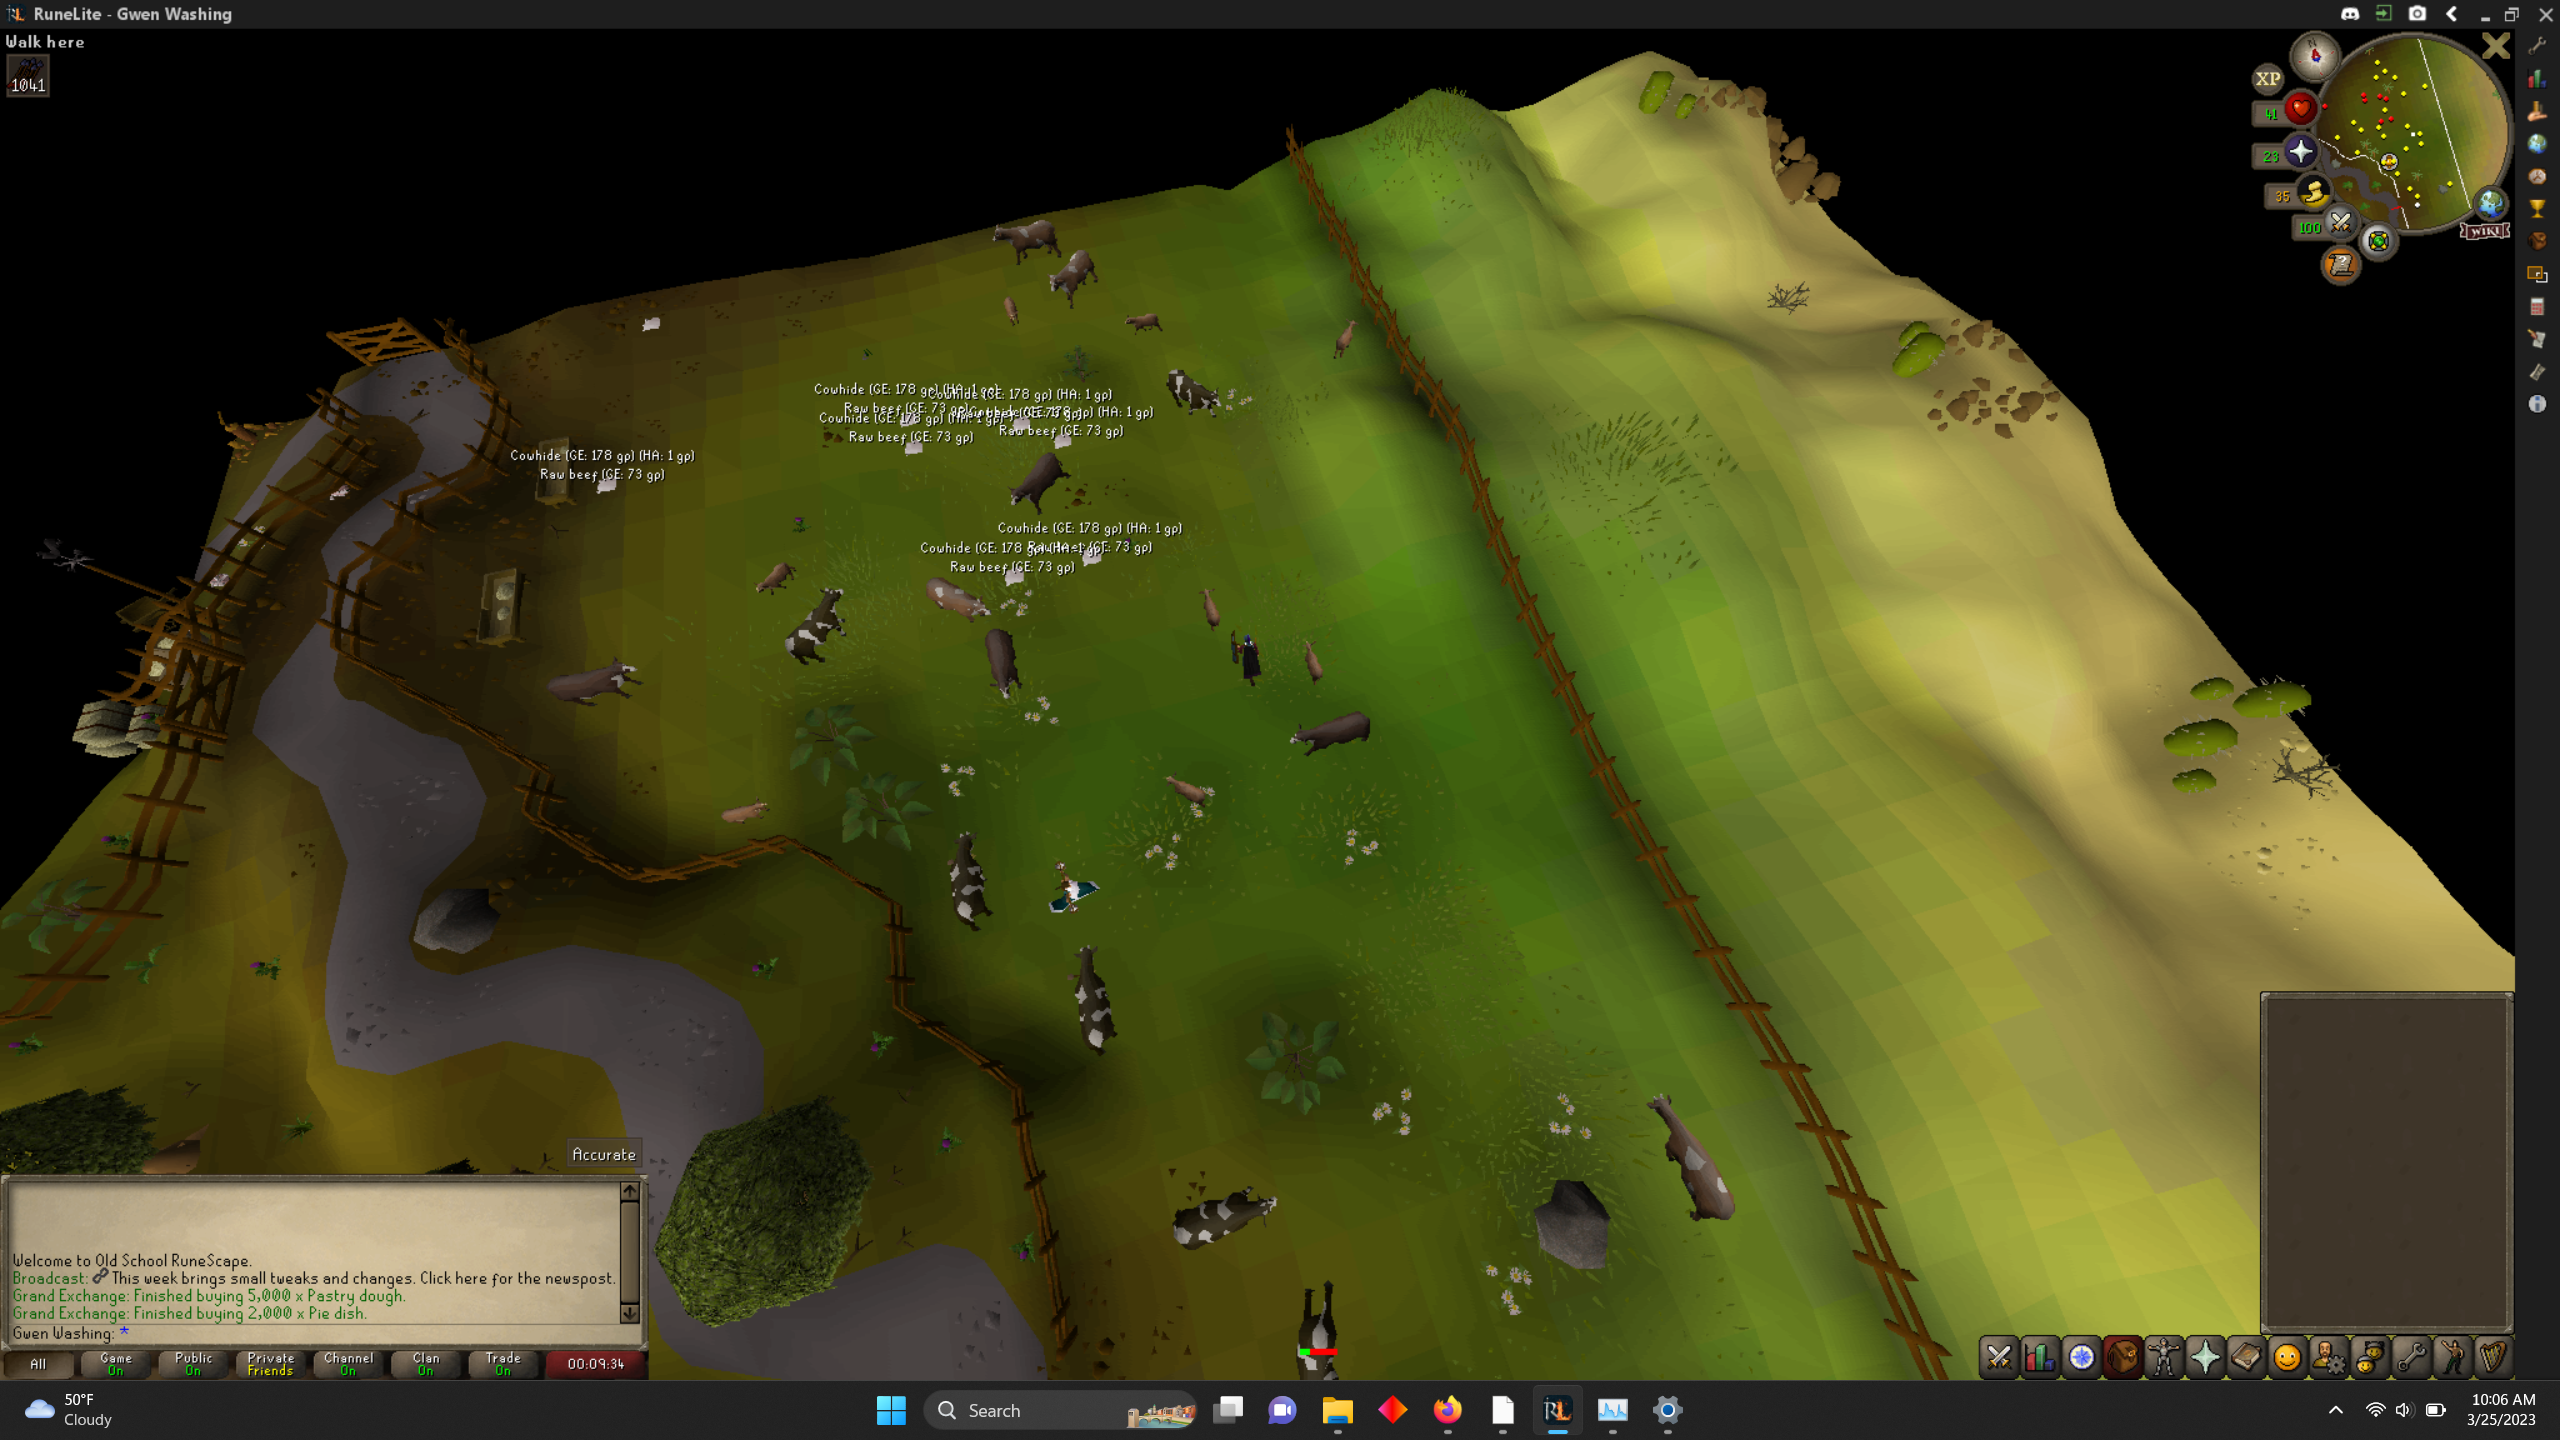cow: (1640, 1088, 1746, 1231), (1167, 1176, 1282, 1268), (549, 652, 649, 723), (781, 584, 856, 673), (1071, 944, 1124, 1062), (951, 826, 992, 944), (1285, 709, 1375, 760), (1044, 244, 1108, 315), (1007, 452, 1071, 515), (986, 216, 1067, 265), (986, 624, 1029, 707), (1162, 366, 1227, 418), (920, 573, 992, 621), (1159, 772, 1215, 818), (714, 791, 775, 832), (754, 557, 798, 607), (1298, 633, 1331, 686), (1196, 582, 1227, 635), (1122, 309, 1171, 339), (1327, 316, 1361, 355), (999, 290, 1023, 331)
